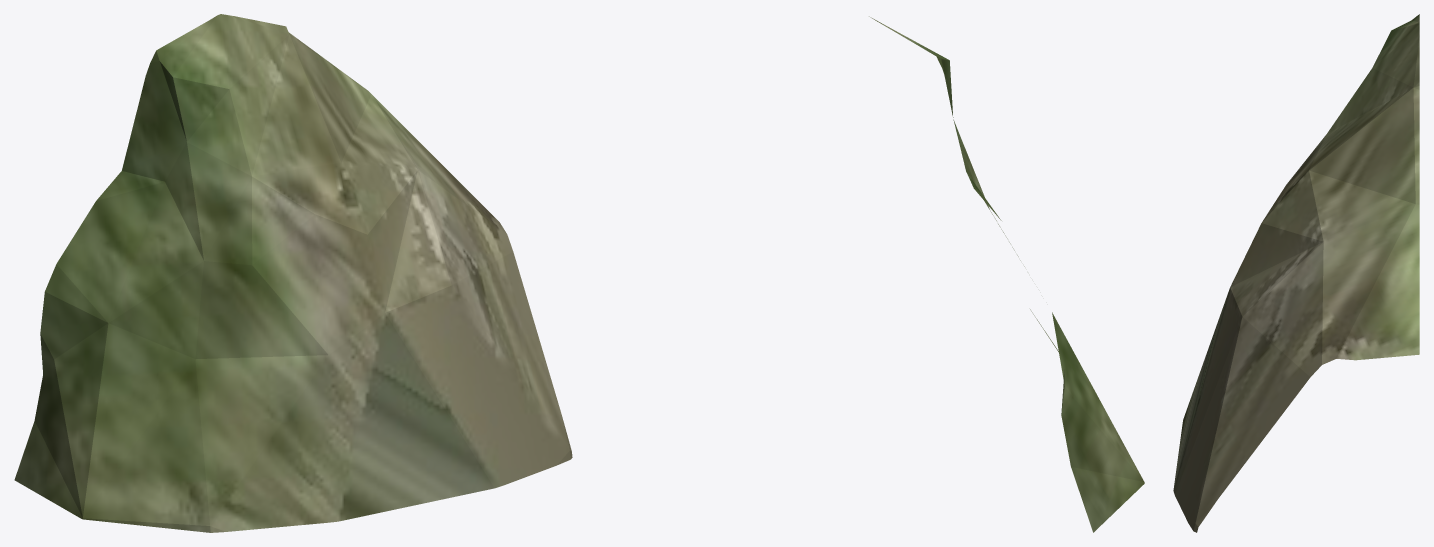
3 renders of one model, left to right at view 1: azimuth 30°, elevation 25°; view 2: azimuth 150°, elevation 25°; view 3: azimuth 270°, elevation 25°, orthographic. The views are drawn at different scales.
Size of the model in its own units: 1.64 by 1.48 by 0.8269.
1 material, 1 textured.
